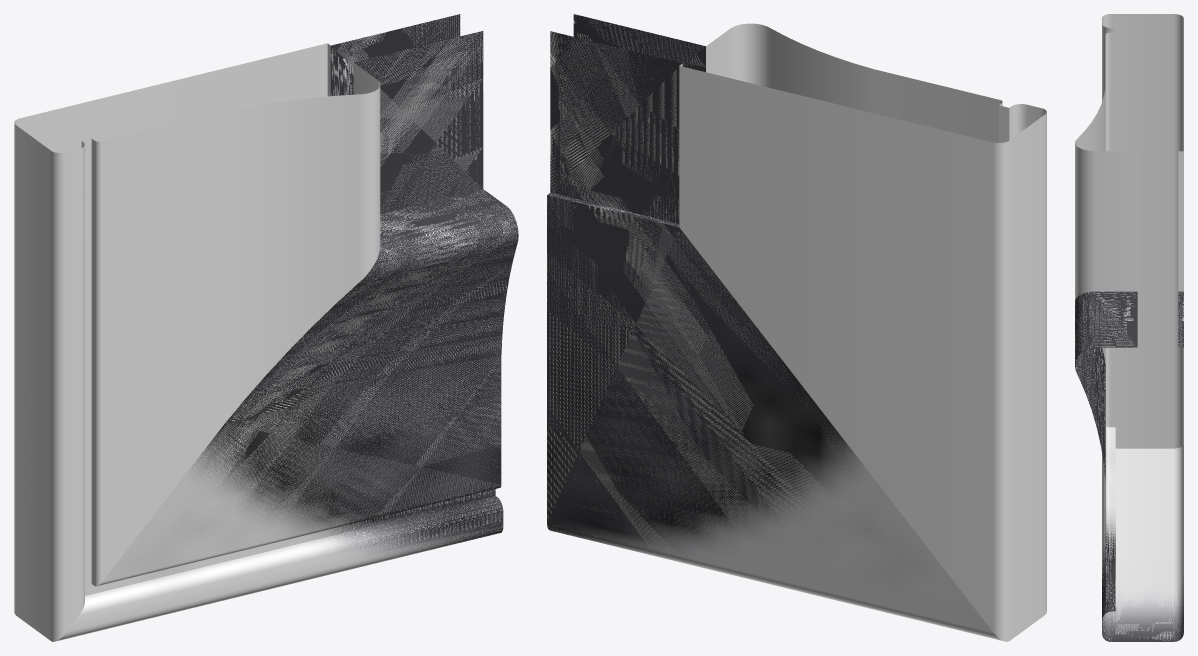
File: original-36.obj
3 renders of one model, left to right at view 1: azimuth 30°, elevation 25°; view 2: azimuth 150°, elevation 25°; view 3: azimuth 270°, elevation 25°, orthographic. The views are drawn at different scales.
Parts seen in each view (by area): view 1: TB_11_BR2/TB_11_BR/mesh14/mesh14-geometry#mesh14-geometry; view 2: TB_11_BR2/TB_11_BR/mesh14/mesh14-geometry#mesh14-geometry; view 3: TB_11_BR2/TB_11_BR/mesh14/mesh14-geometry#mesh14-geometry.
Boxes of the visible parts, box(x1,y1,x2,y2) form: TB_11_BR2/TB_11_BR/mesh14/mesh14-geometry#mesh14-geometry: box(14, 14, 518, 641); TB_11_BR2/TB_11_BR/mesh14/mesh14-geometry#mesh14-geometry: box(547, 14, 1046, 641); TB_11_BR2/TB_11_BR/mesh14/mesh14-geometry#mesh14-geometry: box(1075, 14, 1183, 641).
Bounding box in the file's own units: 0.1357 × 0.1422 × 0.0323.
